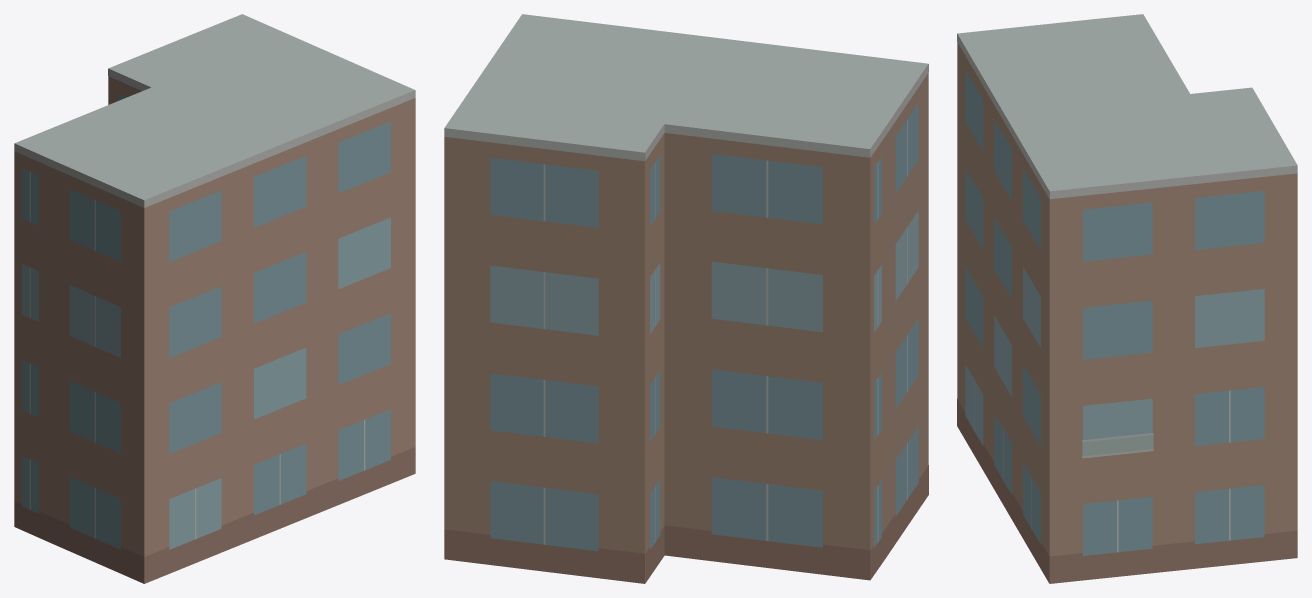
File: residential-d4516638-62ae-400b-ad0b-ba2f29edf761.glb
The picture shows the model from 3 angles, left to right: view 1: azimuth 30°, elevation 25°; view 2: azimuth 150°, elevation 25°; view 3: azimuth 270°, elevation 25°; orthographic projection. The views are drawn at different scales.
Parts seen in each view (by area): view 1: residential-d4516638-62ae-400b-ad0b-ba2f29edf761.tmp; view 2: residential-d4516638-62ae-400b-ad0b-ba2f29edf761.tmp; view 3: residential-d4516638-62ae-400b-ad0b-ba2f29edf761.tmp.
Boxes of the visible parts, bbox=[...] form: residential-d4516638-62ae-400b-ad0b-ba2f29edf761.tmp: bbox=[14, 14, 415, 583]; residential-d4516638-62ae-400b-ad0b-ba2f29edf761.tmp: bbox=[444, 14, 928, 583]; residential-d4516638-62ae-400b-ad0b-ba2f29edf761.tmp: bbox=[957, 14, 1297, 583].
Size of the model in its own units: 11.84 by 12.2 by 9.61.
